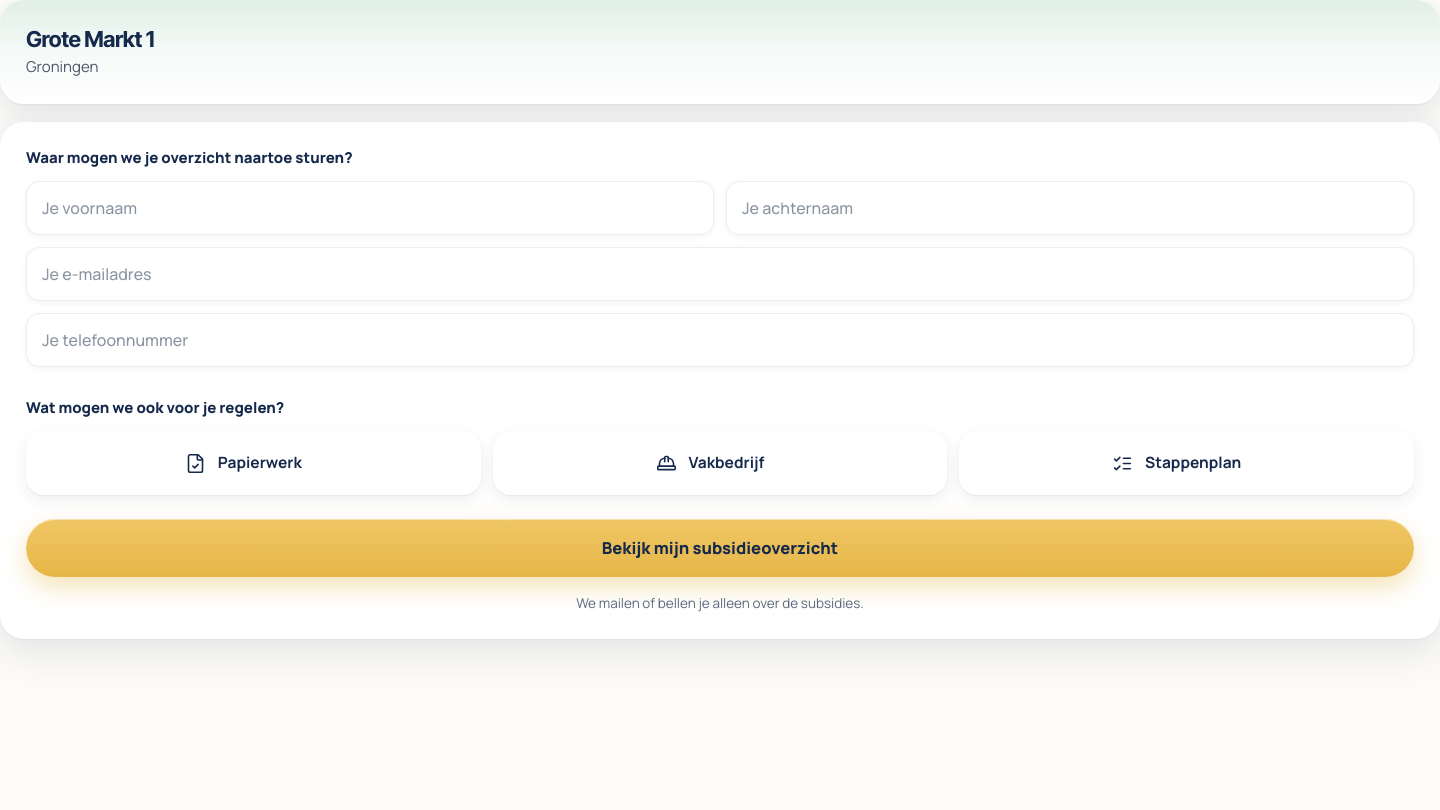
e-mailcontrole in de subsidiecheck › poort: geen lead zolang het domein niet bestaat
Later steps or results of the test are not shown.
Type "Jan" into the field with placeholder "Je voornaam". click: x=370, y=208
box: [26,181,714,235]
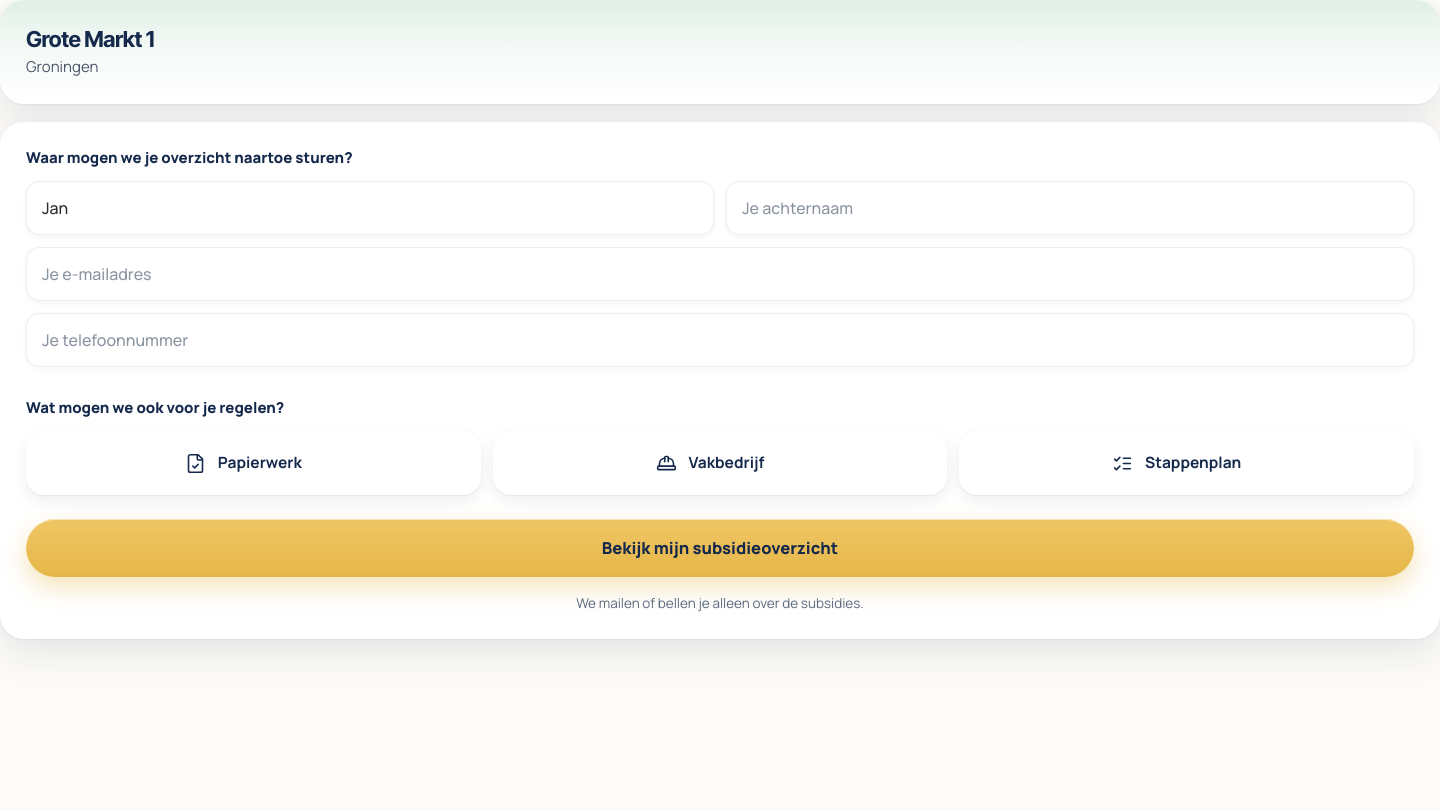
Type "de Vries" into the field with placeholder "Je achternaam". click: x=1070, y=208
box: [726,181,1414,235]
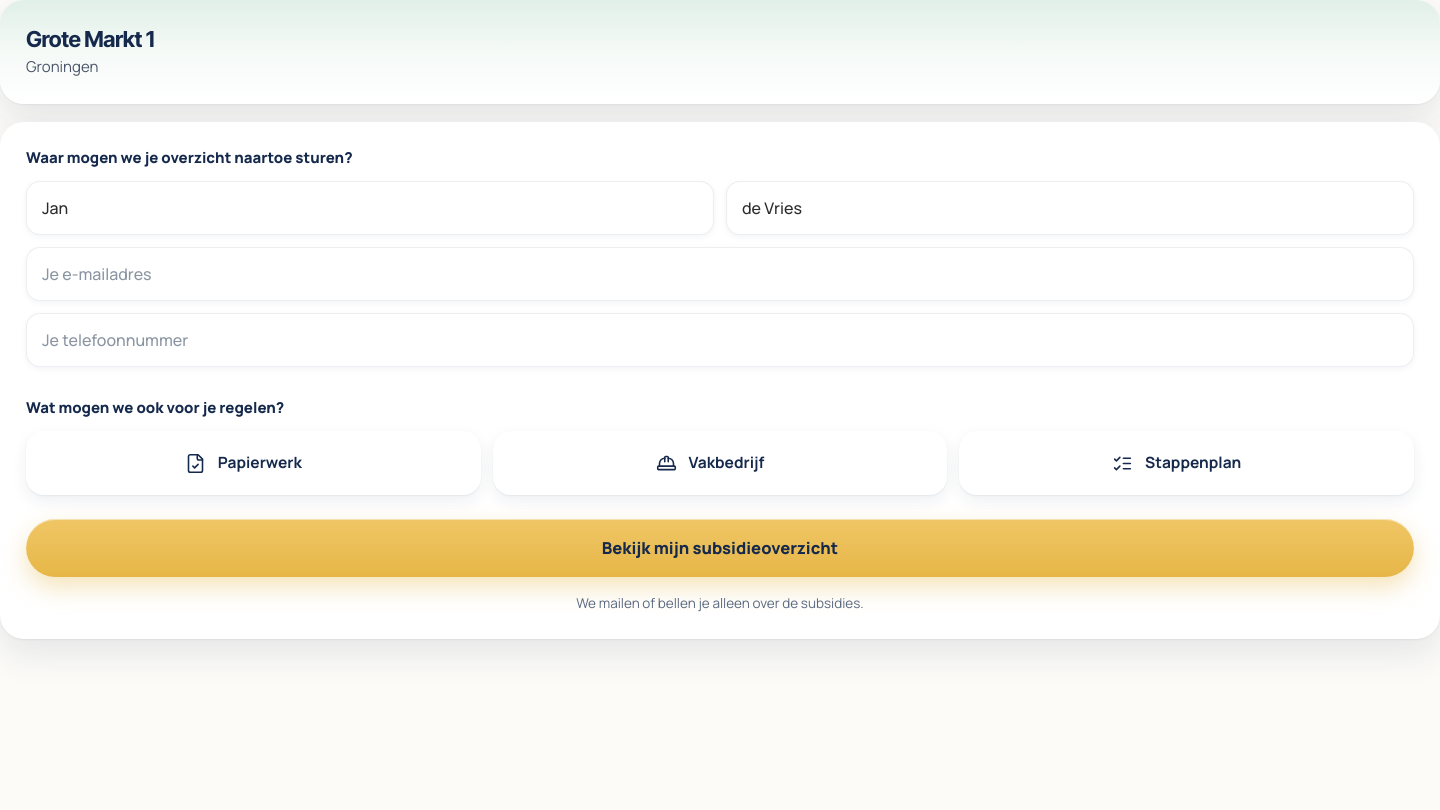
Type "jan@ziggo.nll" into the field with placeholder "Je e-mailadres". click: x=720, y=274
box: [26,247,1414,301]
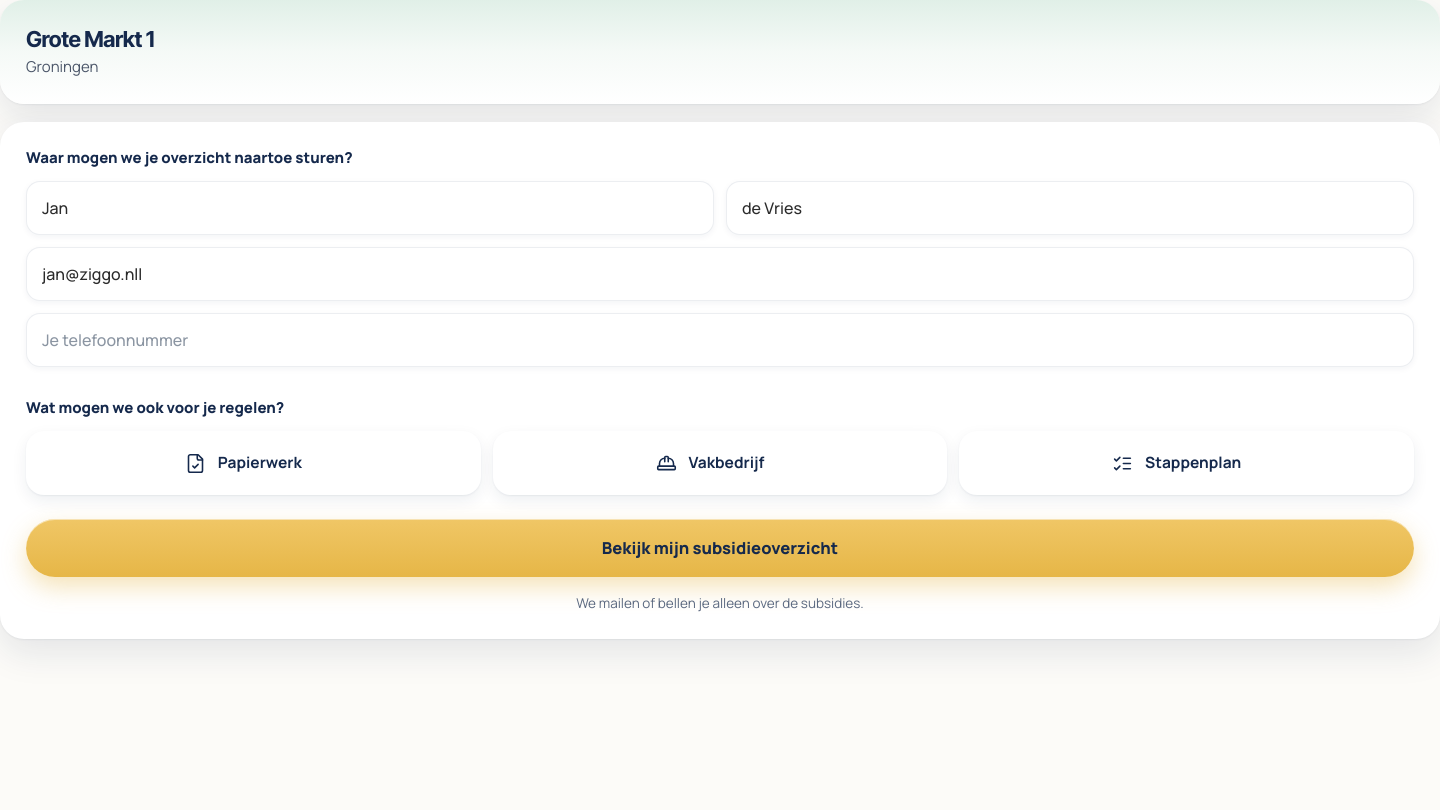
Type "0612345678" into the field with placeholder "Je telefoonnummer". click: x=720, y=340
box: [26,313,1414,367]
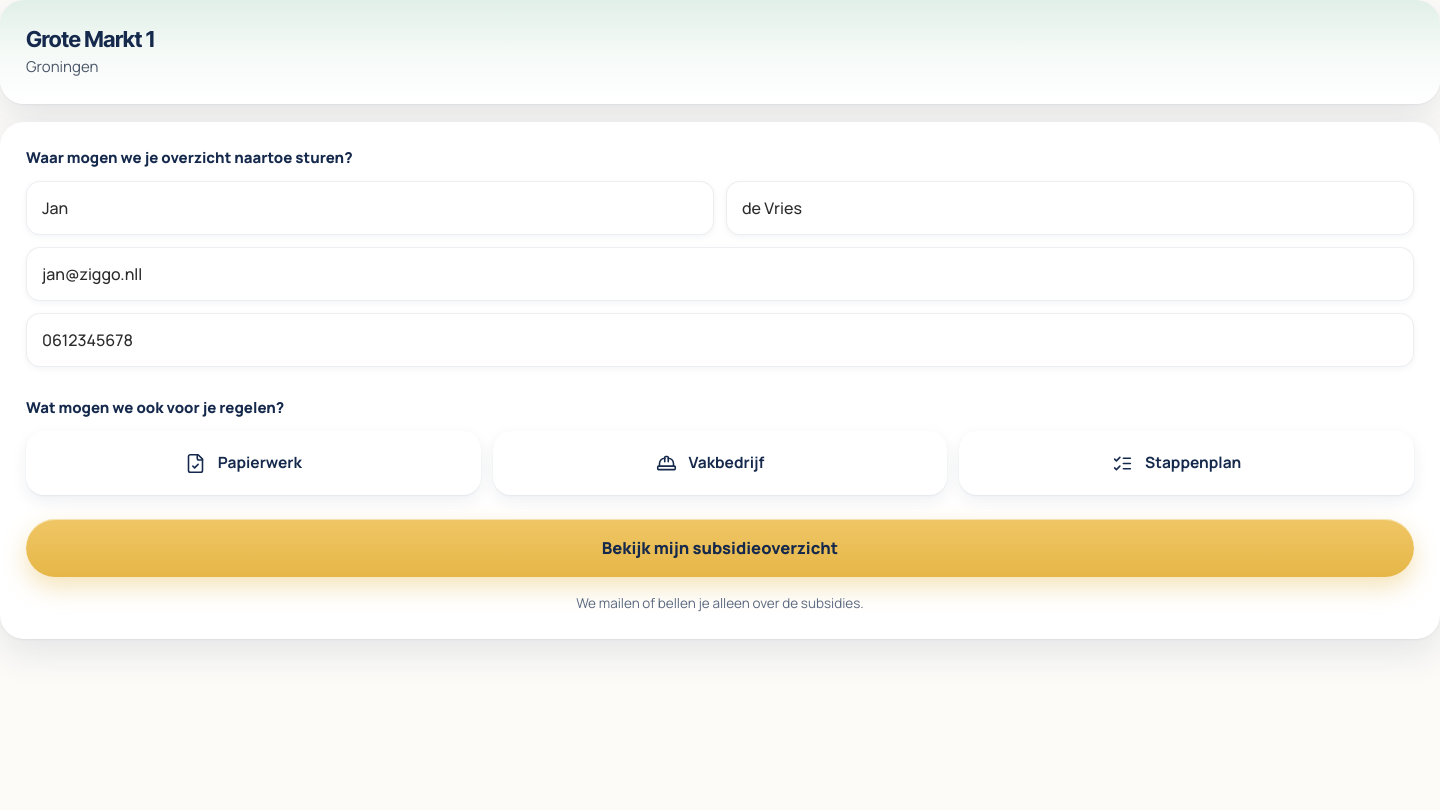
Click the button "Bekijk mijn subsidieoverzicht". click: x=720, y=548
box: [26,519,1414,577]
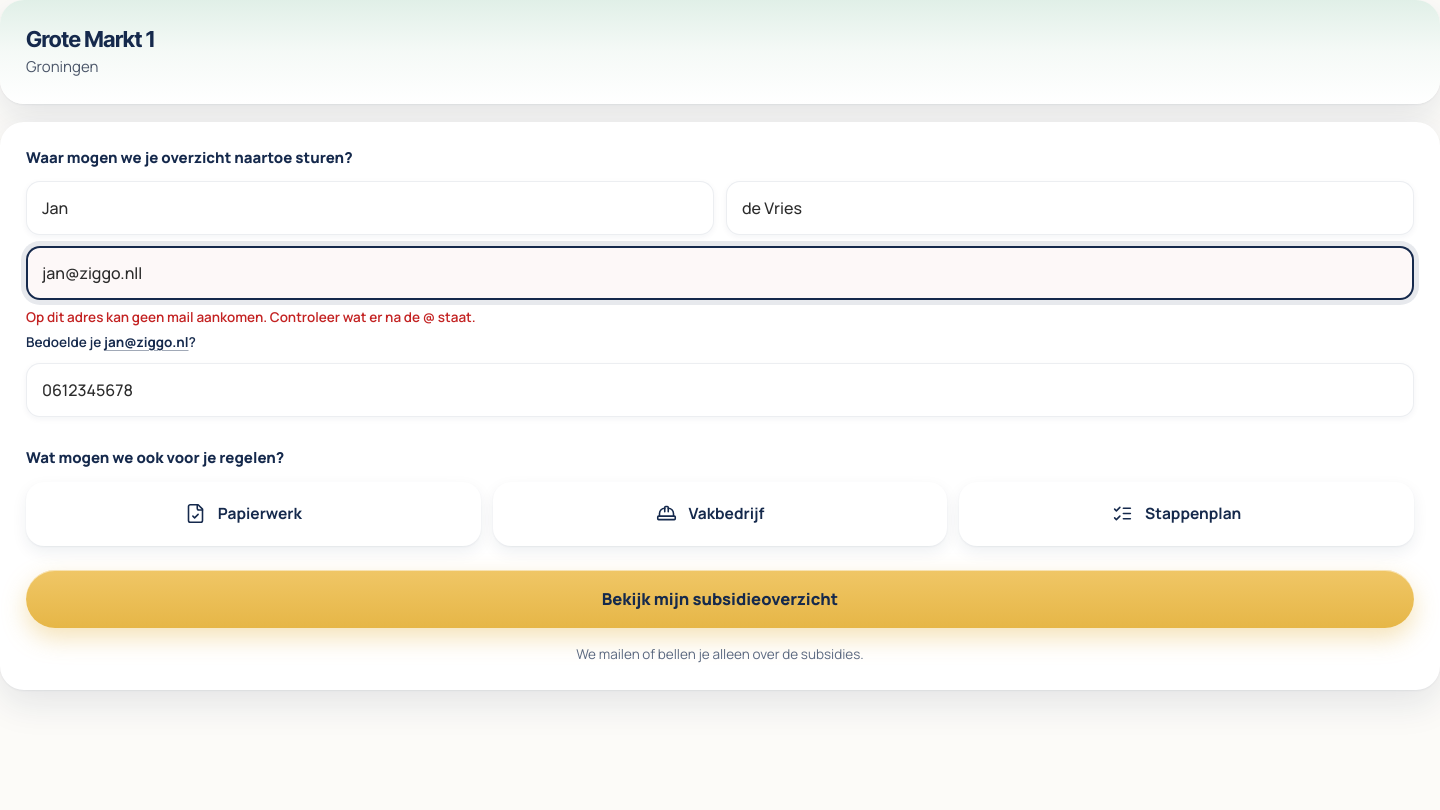
Expected: the text "Op dit adres kan geen mail aankomen" is shown, [26,308,472,326]
Expected: the button with aria-label "Gebruik jan@ziggo.nl" is shown, [104,327,188,358]
